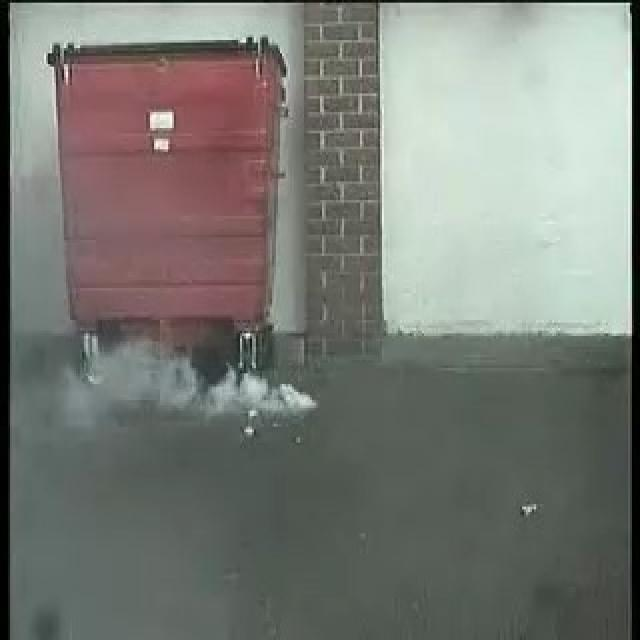smoke: (71, 331, 318, 420)
